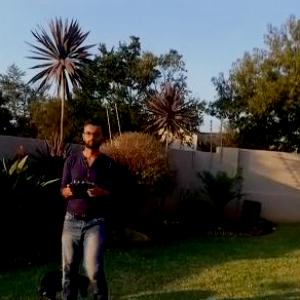follow: (57, 115, 120, 299)
null: (35, 266, 92, 299)
